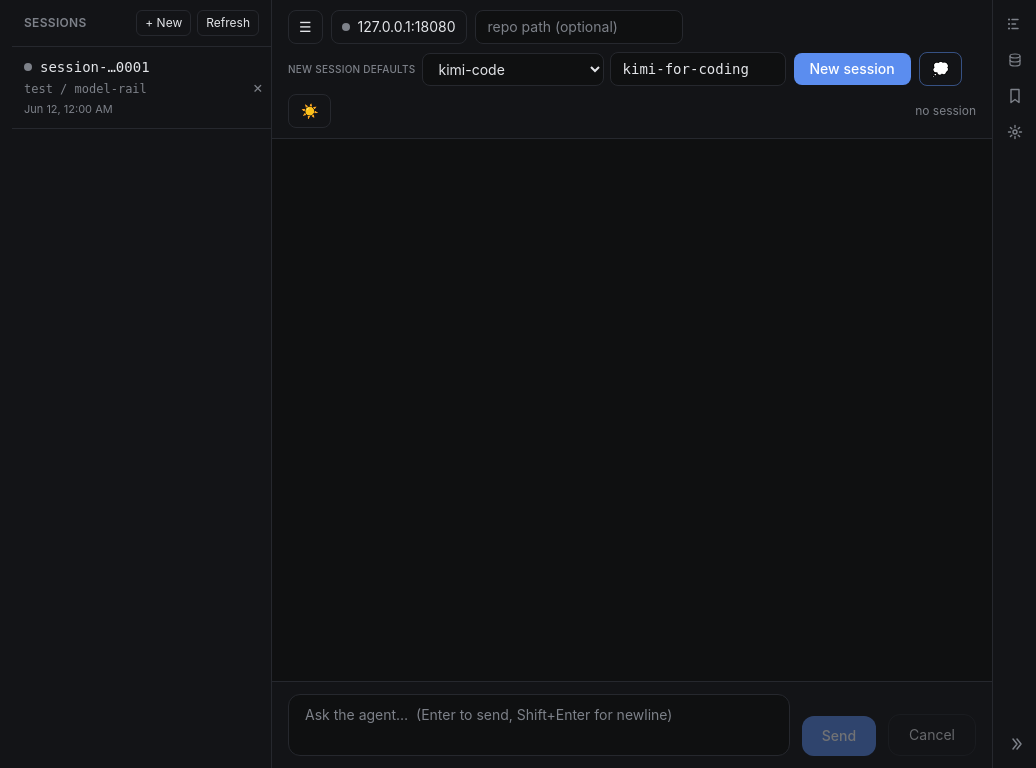
Test: right rail › opens, switches, and collapses rail panels
This screenshot has width=1036, height=768.
Click the button "session-…0001 test / model-rail Jun 12, 12:00 AM". click: (128, 87)
box: top-left (12, 47), bottom-right (244, 128)
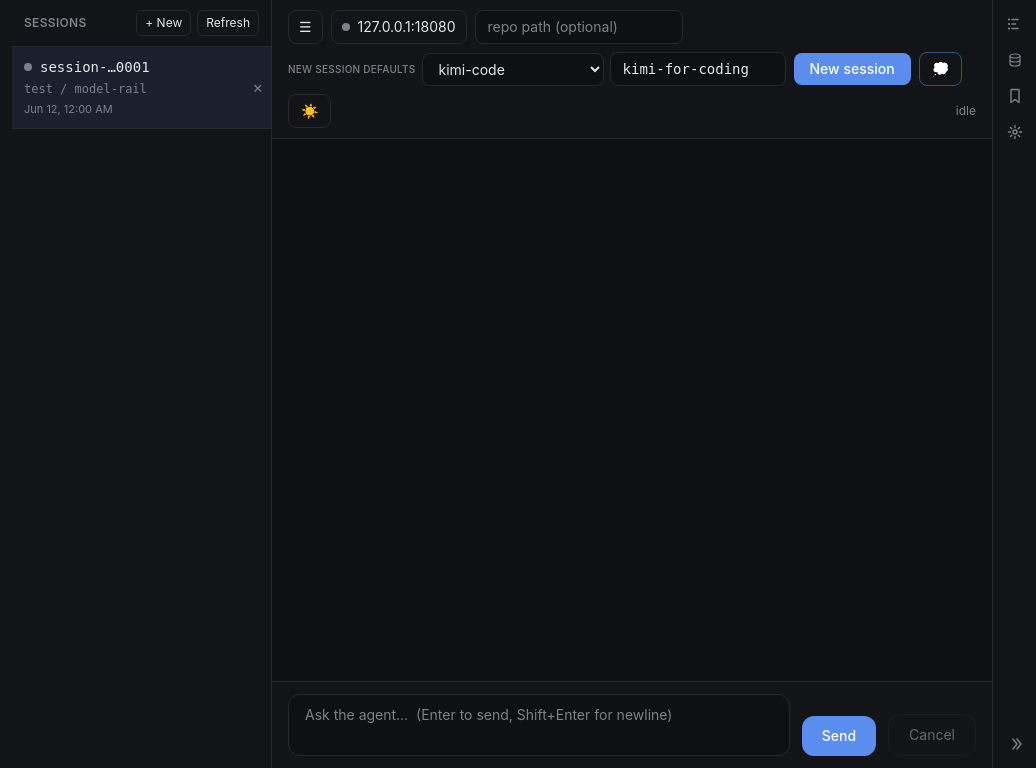
Expected: the text "idle" is shown, top-left (956, 103), bottom-right (976, 119)
# Open memory panel.
Click the button named "Toggle memory panel". click: (1014, 60)
box: top-left (998, 44), bottom-right (1030, 76)
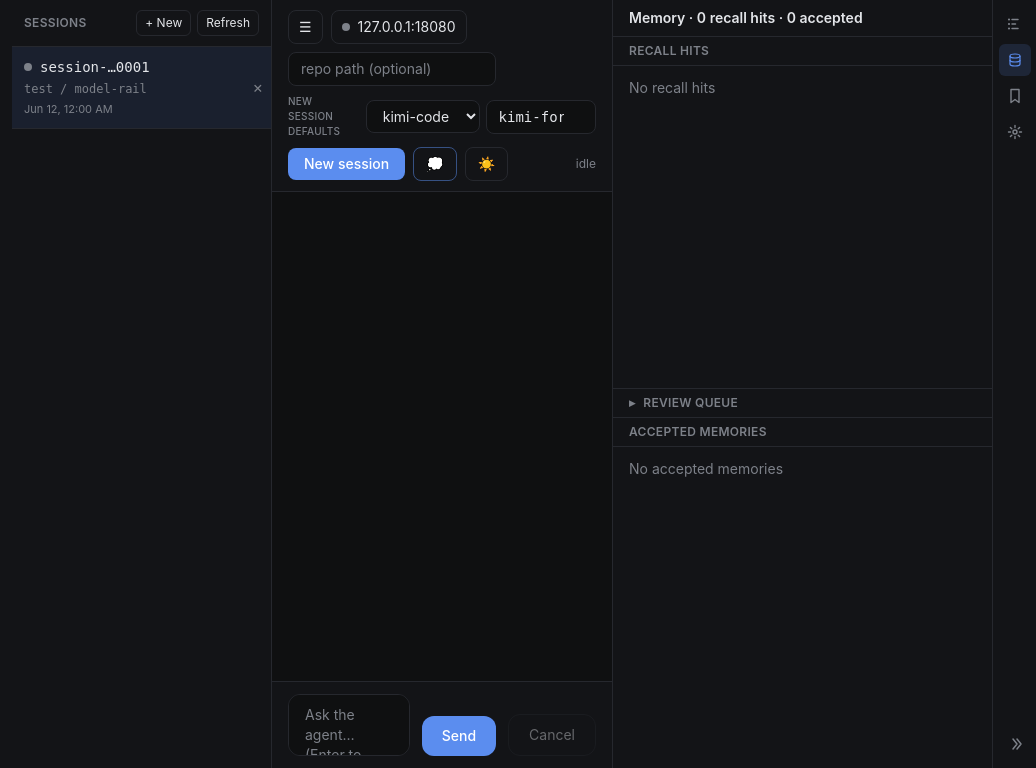
Expected: the text "Recall hits" is shown, top-left (613, 37), bottom-right (992, 66)
# Switch to diff: memory closes, diff opens (fetched on demand).
Click the button named "Toggle diff panel". click: (1014, 24)
box: top-left (998, 8), bottom-right (1030, 40)
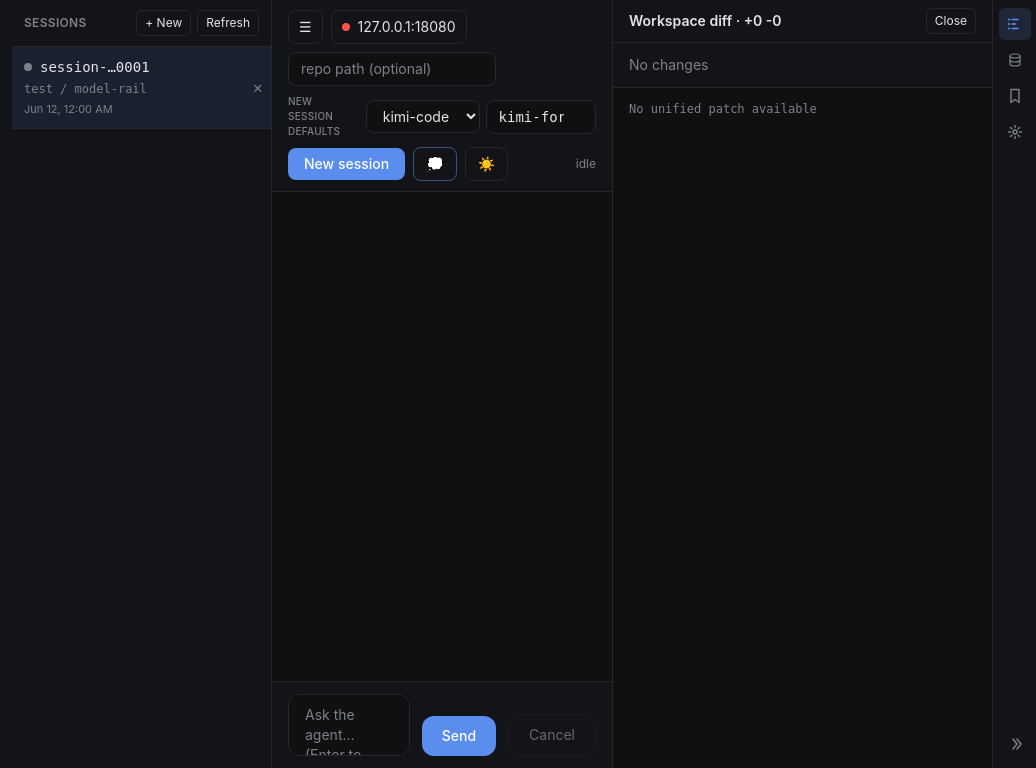
Expected: the text "Workspace diff · +0 -0" is shown, top-left (629, 11), bottom-right (782, 31)
Expected: the text "recall hits" is gone
# Clicking the active icon collapses the panel.
Click the button named "Toggle diff panel". click: (1014, 24)
box: top-left (998, 8), bottom-right (1030, 40)
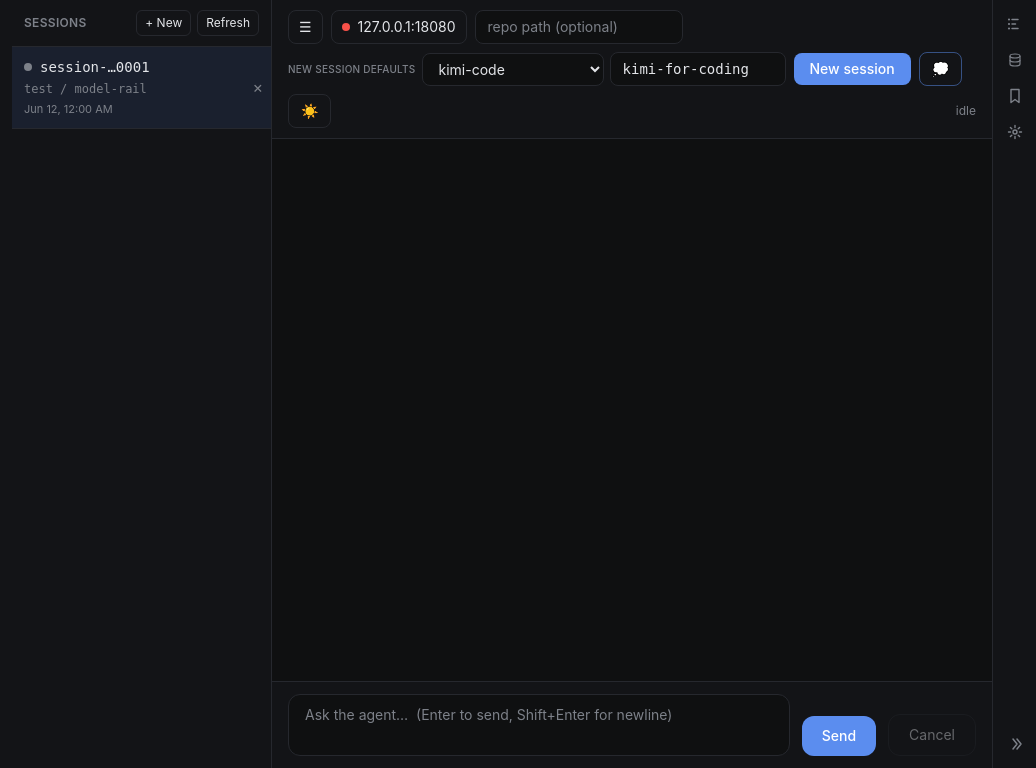
Expected: the text "Workspace diff" is gone
